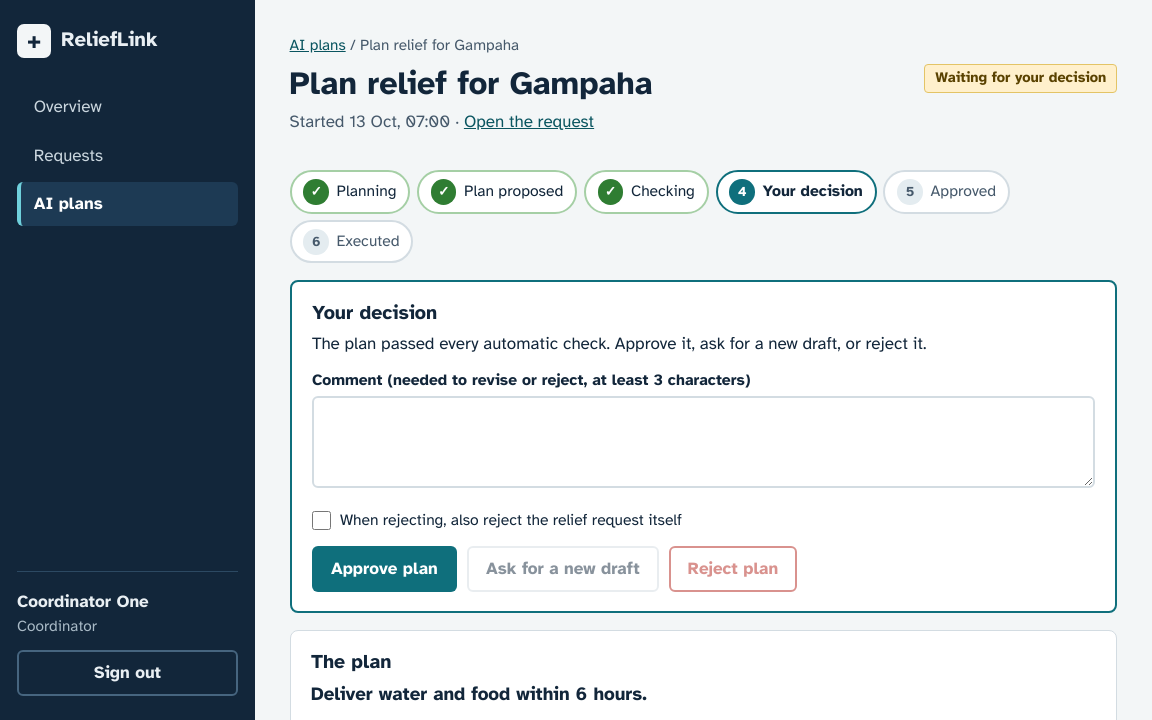
Workflow detail: actions › shows a conflict message and reloads the real state
What coordinates should you click on to do the following:
click the button "Approve plan"
I would click on:
 (384, 569)
Its box is top-left (312, 546), bottom-right (457, 592).
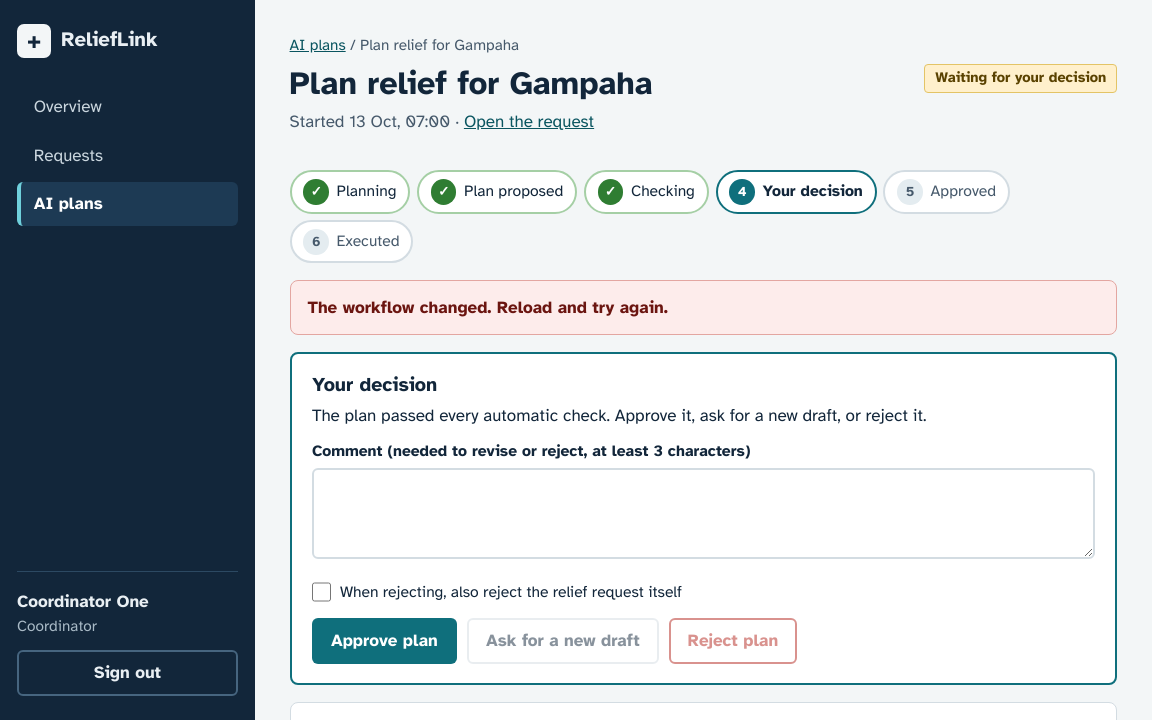
Check: the message shows "The workflow changed", box top-left (308, 297), bottom-right (668, 318)
